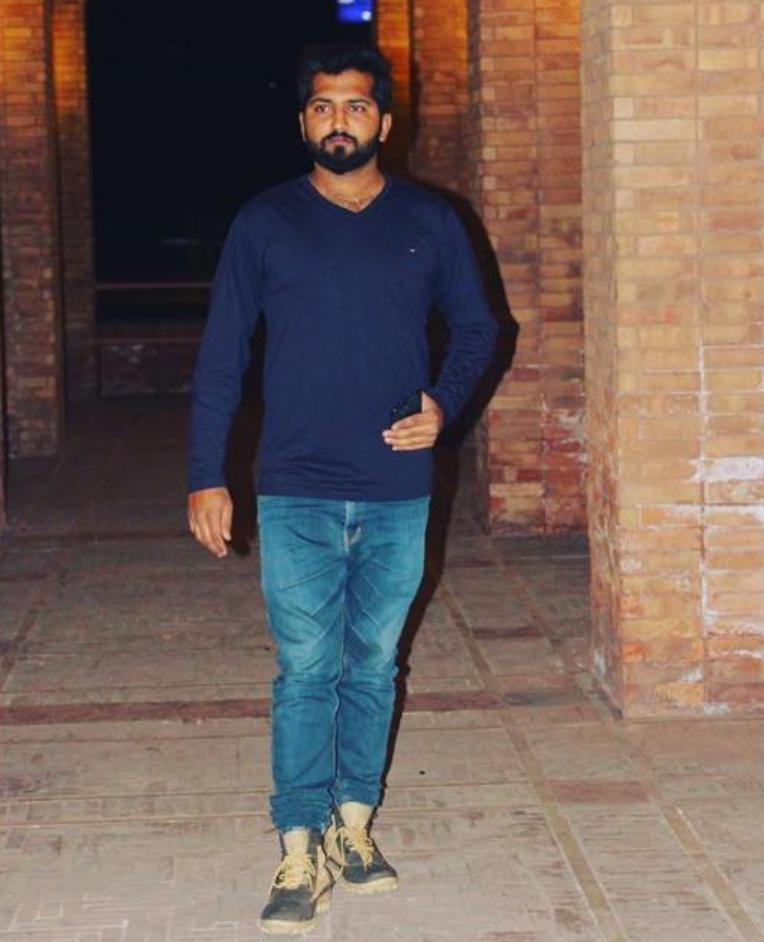NoMask: (308, 93, 377, 174)
